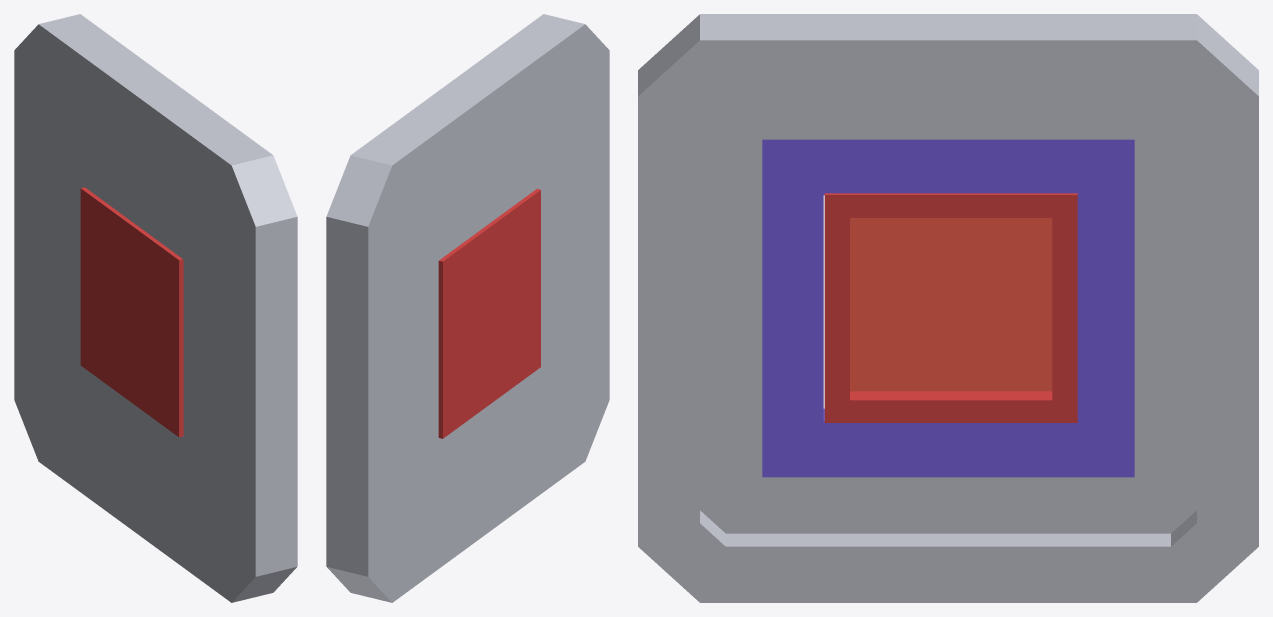
Rendered from target.glb.
3 renders of one model, left to right at view 1: azimuth 30°, elevation 25°; view 2: azimuth 150°, elevation 25°; view 3: azimuth 270°, elevation 25°, orthographic. The views are drawn at different scales.
Parts seen in each view (by area): view 1: mergedBlocks(Clone); view 2: mergedBlocks(Clone); view 3: mergedBlocks(Clone).
Boxes of the visible parts, <box> form: mergedBlocks(Clone): <box>14,14,297,602</box>; mergedBlocks(Clone): <box>326,14,609,602</box>; mergedBlocks(Clone): <box>638,14,1258,602</box>.
Size of the model in its own units: 0.11 by 1 by 1.
